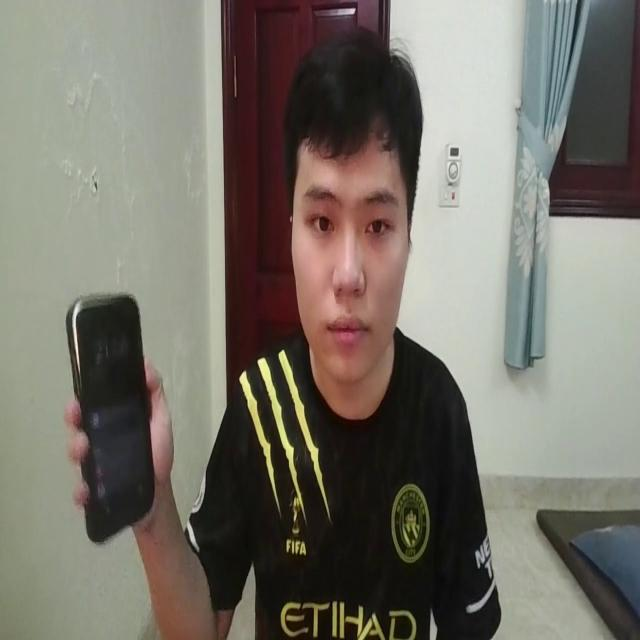phone: (64, 287, 158, 541)
student: (153, 24, 495, 640)
